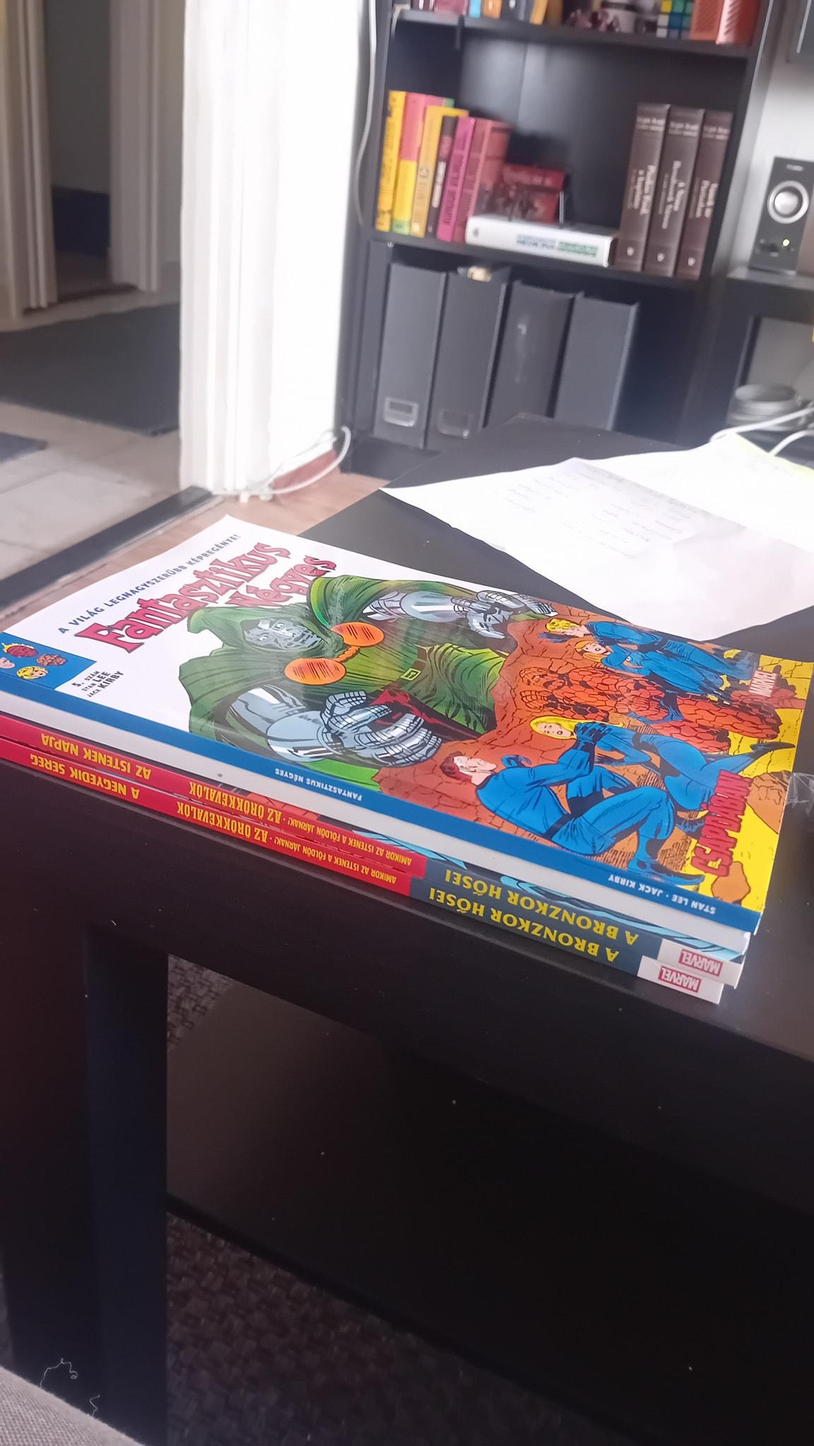comic: (0, 427, 814, 951)
